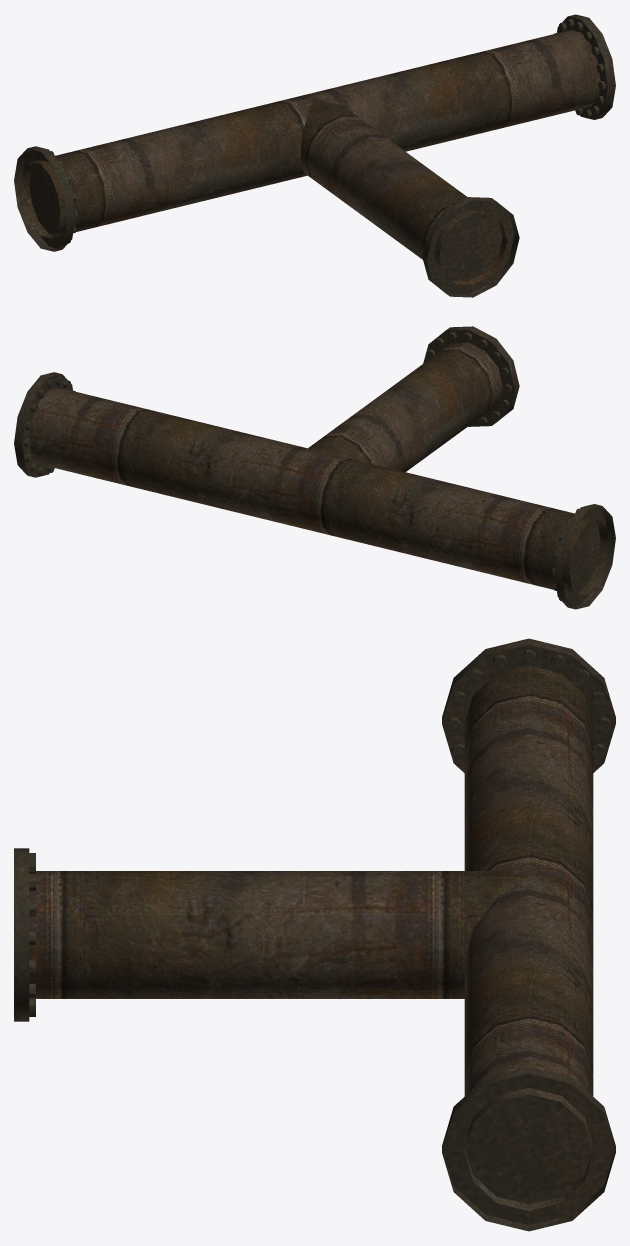
Rendered from pipe_bx_4.obj.
3 renders of one model, top to bottom at view 1: azimuth 30°, elevation 25°; view 2: azimuth 150°, elevation 25°; view 3: azimuth 270°, elevation 25°, orthographic. The views are drawn at different scales.
Visible parts, largest first — view 1: pipe_bx_4; view 2: pipe_bx_4; view 3: pipe_bx_4.
Part boxes in pixels (x1,y1,x2,y2): pipe_bx_4: (14,14,615,297); pipe_bx_4: (14,326,615,609); pipe_bx_4: (14,638,615,1231).
Size of the model in its own units: 4 by 0.676 by 2.34.
